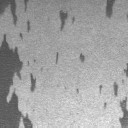red iron: (0, 0, 36, 128), (99, 82, 128, 128), (59, 10, 75, 30), (105, 0, 115, 19), (123, 62, 128, 78), (80, 52, 85, 62), (56, 52, 59, 64), (76, 89, 78, 94)
